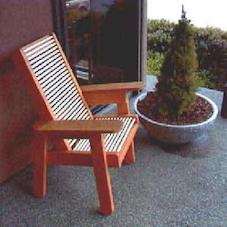chair: (3, 5, 185, 223)
